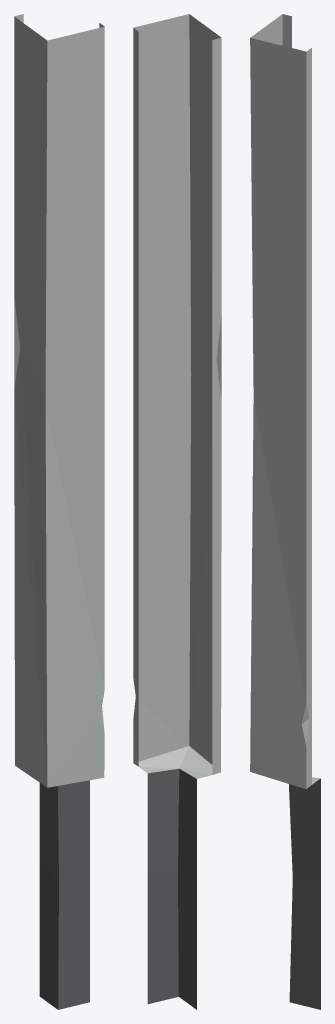
The model's file is SM_Bld_House_ExteriorWall_GroundFloor_Corner_01.fbx.
3 renders of one model, left to right at view 1: azimuth 30°, elevation 25°; view 2: azimuth 210°, elevation 25°; view 3: azimuth 330°, elevation 25°, orthographic. The views are drawn at different scales.
Visible parts, largest first — view 1: SM_Bld_House_ExteriorWall_GroundFloor_Corner_01; view 2: SM_Bld_House_ExteriorWall_GroundFloor_Corner_01; view 3: SM_Bld_House_ExteriorWall_GroundFloor_Corner_01.
Part boxes in pixels (x1,y1,x2,y2): SM_Bld_House_ExteriorWall_GroundFloor_Corner_01: (14,14,104,1009); SM_Bld_House_ExteriorWall_GroundFloor_Corner_01: (133,14,221,1009); SM_Bld_House_ExteriorWall_GroundFloor_Corner_01: (250,14,320,1009).
Size of the model in its own units: 24 by 394 by 24.1.
